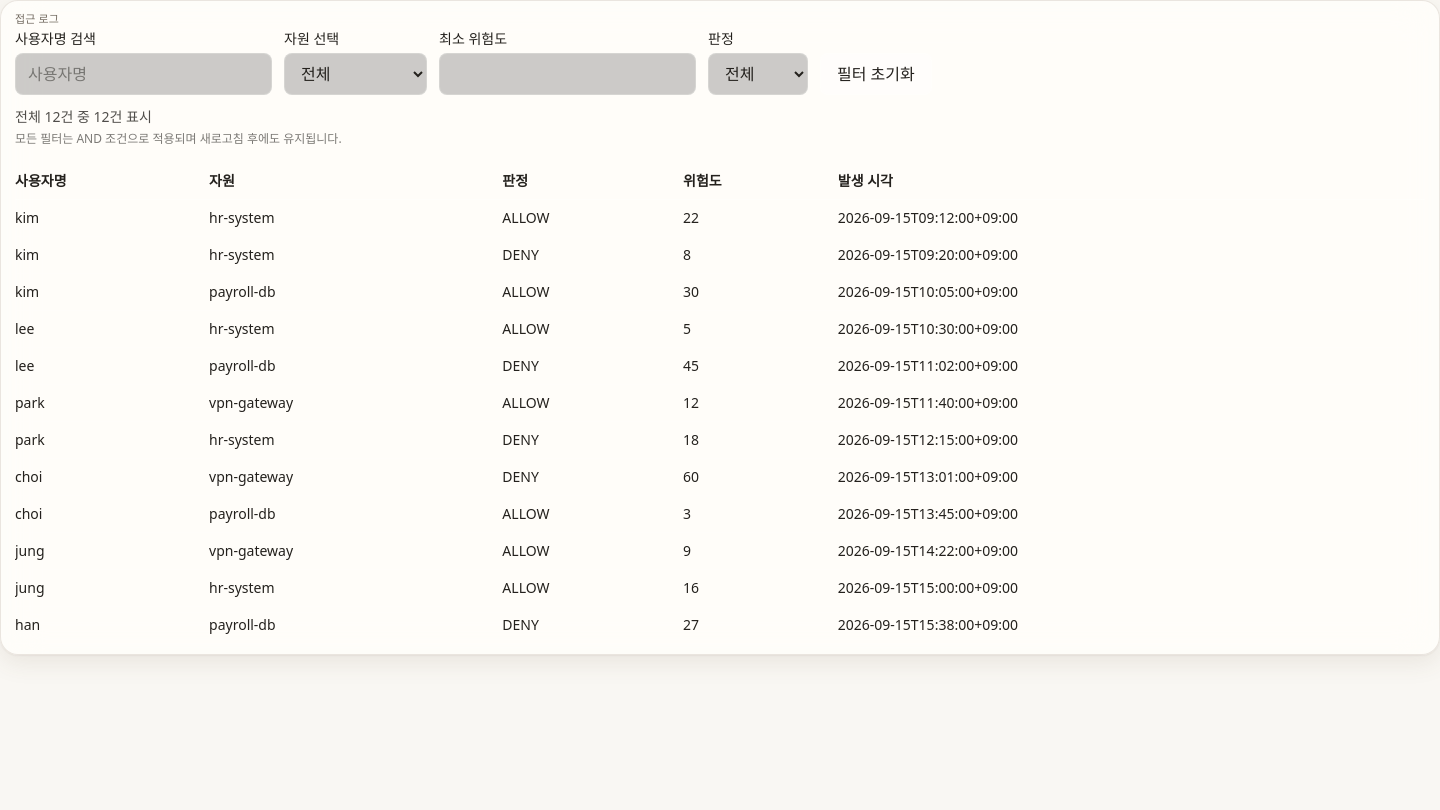
Task 5 fixed tests (FT-01..FT-10) › FT-08: 사용자명 검색창에 no-such-user-999를 입력한다 -> 결과 건수는 0이고 안내 문구가 표시된다
Type "no-such-user-999" into the field labelled "사용자명 검색" at (144, 74), box [15, 53, 272, 95]
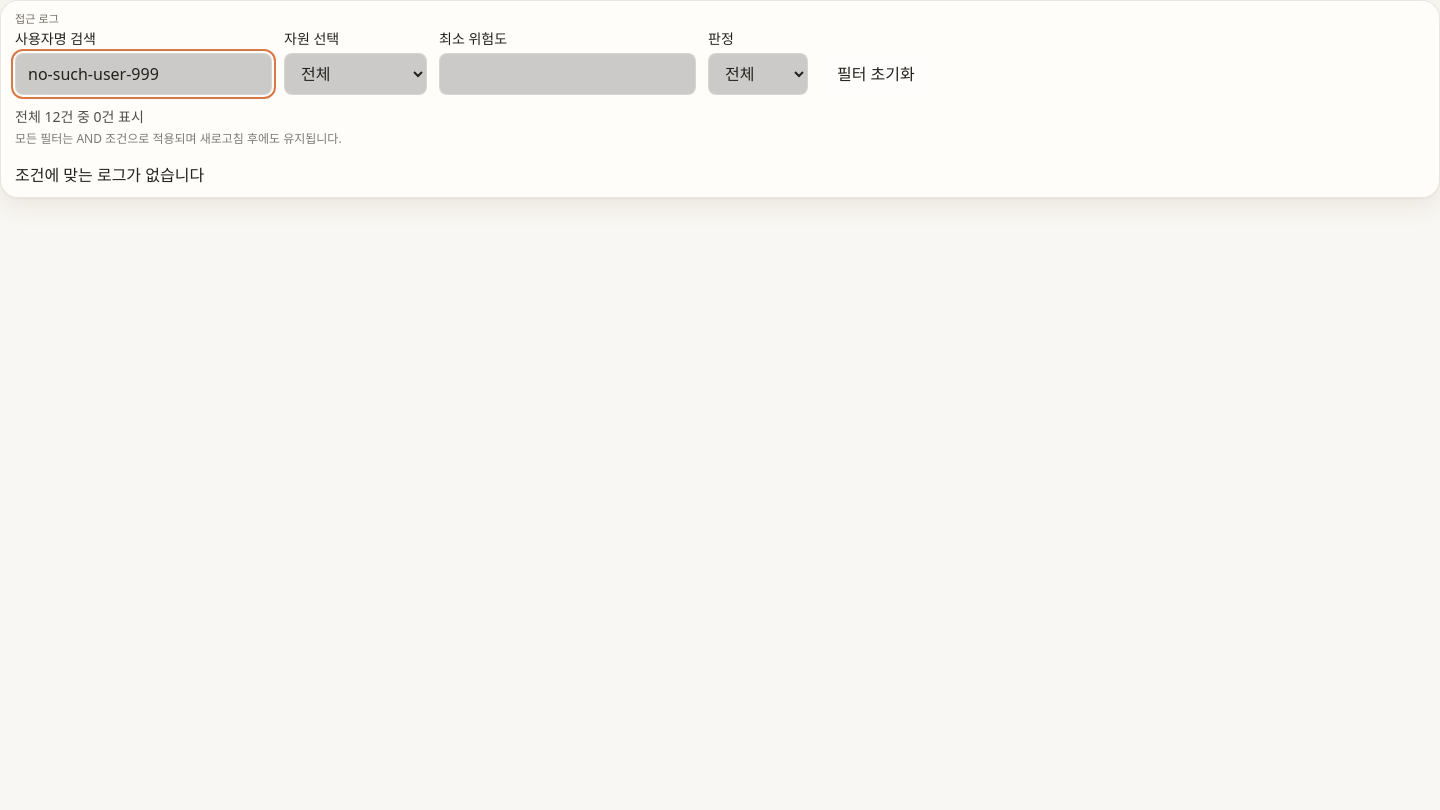
Expected: no rows are shown
Expected: the text "조건에 맞는 로그가 없습니다" is shown, [15, 164, 204, 186]
